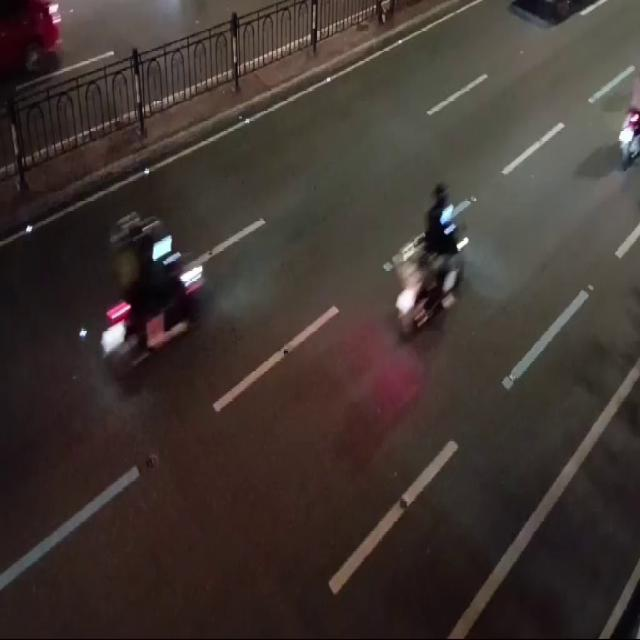motorcycle: (94, 203, 209, 387), (400, 189, 471, 352)
